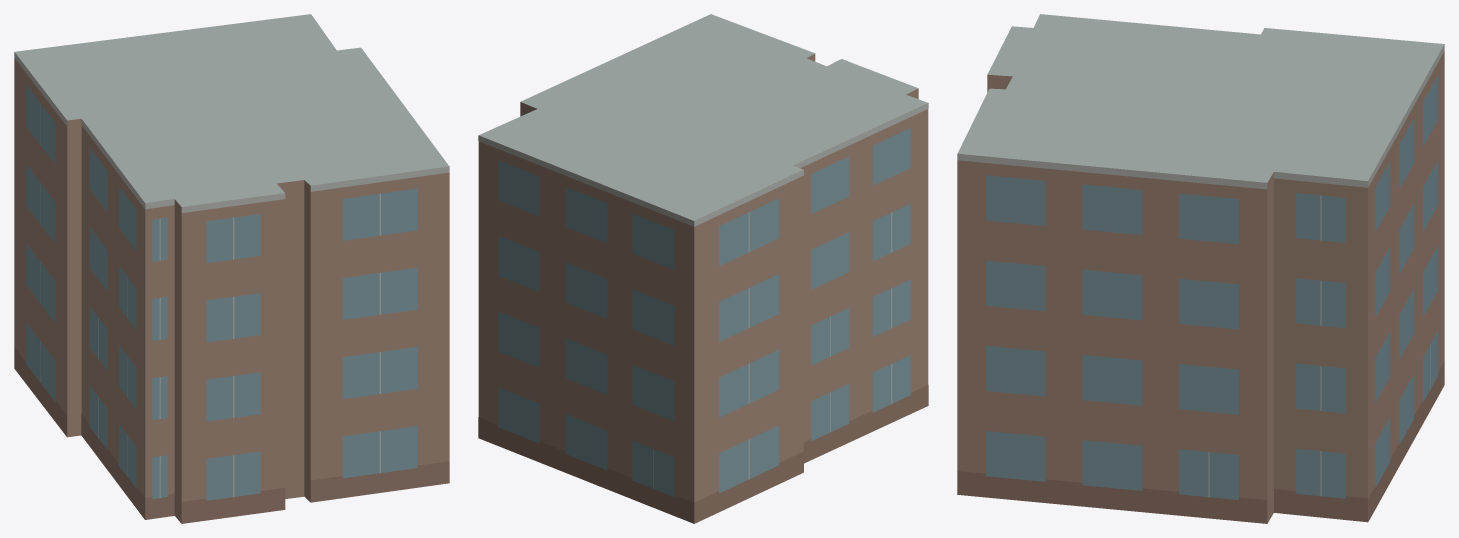
Rendered from survey-upis-33001937.glb.
3 views of the same model, side by side, from view 1: azimuth 30°, elevation 25°; view 2: azimuth 150°, elevation 25°; view 3: azimuth 270°, elevation 25° (orthographic). The views are drawn at different scales.
Visible parts, largest first — view 1: survey-upis-33001937.tmp; view 2: survey-upis-33001937.tmp; view 3: survey-upis-33001937.tmp.
Boxes of the visible parts, x1,y1,x2,y2 form: survey-upis-33001937.tmp: (14,14,449,523); survey-upis-33001937.tmp: (478,14,928,523); survey-upis-33001937.tmp: (957,14,1444,523).
Bounding box in the file's own units: 13.5 × 12.7 × 16.45.
